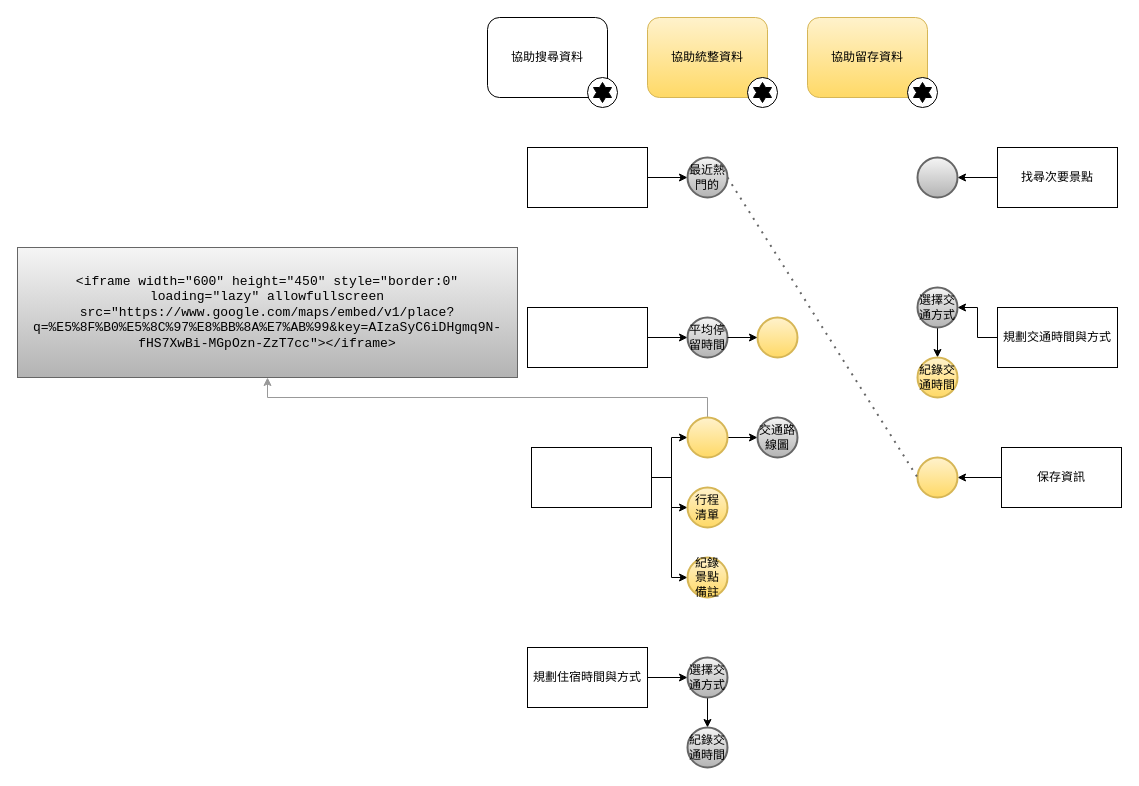
Image size: 1139x786. Some labels were removed from this diagram. Each missing label, with the box of its shape:
分享 行程: (916, 456, 958, 498)
在主要景點附近的: (916, 156, 958, 198)
找尋主要景點: (526, 146, 648, 208)
整理資訊: (530, 446, 652, 508)
紀錄 景點 位置: (686, 416, 728, 458)
紀錄停留時間: (756, 316, 798, 358)
規劃停留時間: (526, 306, 648, 368)
